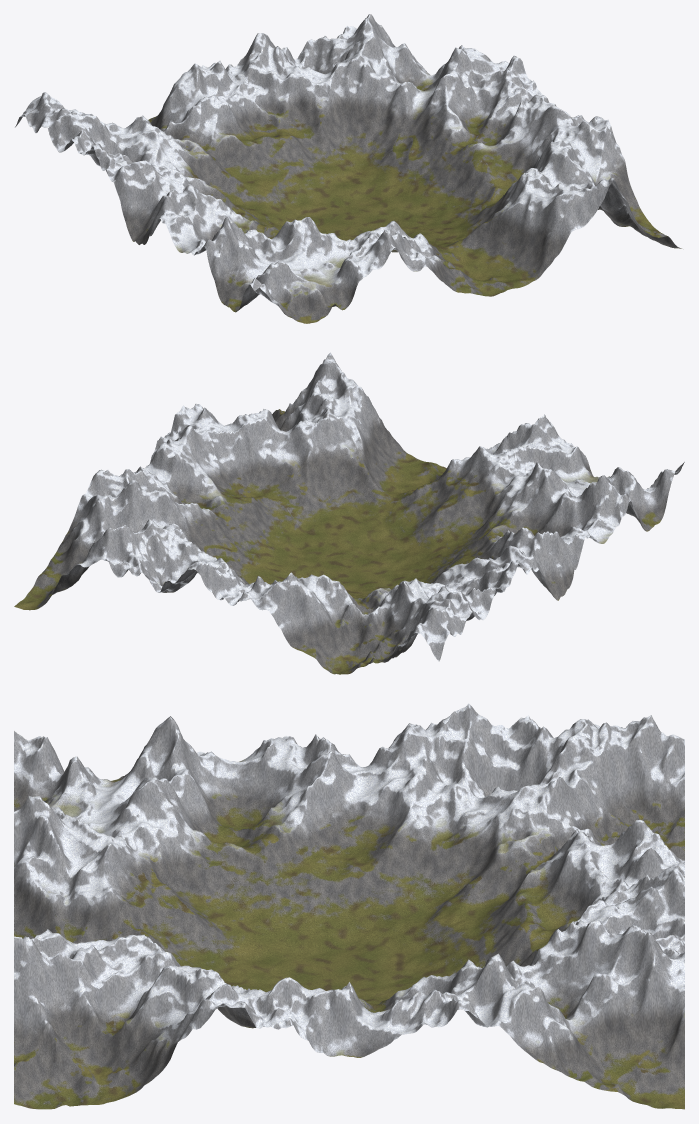
The model's file is MountainTerrain.obj.
3 views of the same model, one above another, from view 1: azimuth 30°, elevation 25°; view 2: azimuth 150°, elevation 25°; view 3: azimuth 270°, elevation 25° (orthographic). The views are drawn at different scales.
Parts seen in each view (by area): view 1: MountainTerrain; view 2: MountainTerrain; view 3: MountainTerrain.
Boxes of the visible parts, x1,y1,x2,y2 form: MountainTerrain: (15, 14, 681, 323); MountainTerrain: (14, 352, 684, 674); MountainTerrain: (14, 703, 684, 1109).
Size of the model in its own units: 360 by 79.38 by 360.
1 material, 1 textured.
